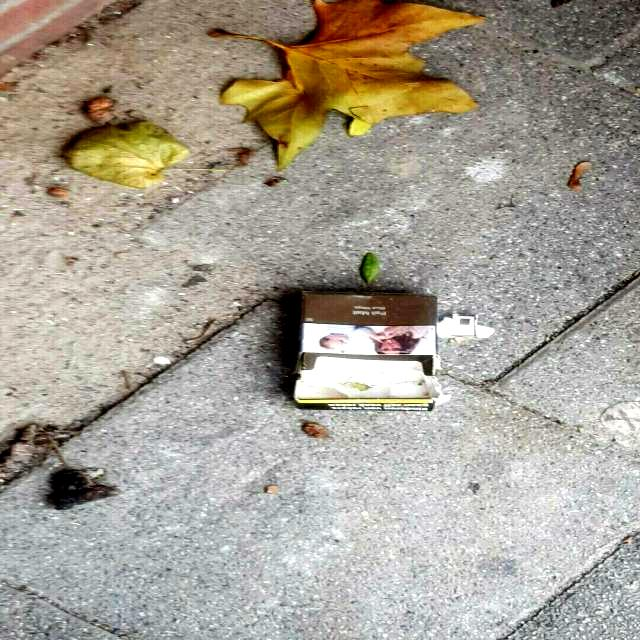Paper: (289, 288, 441, 414)
